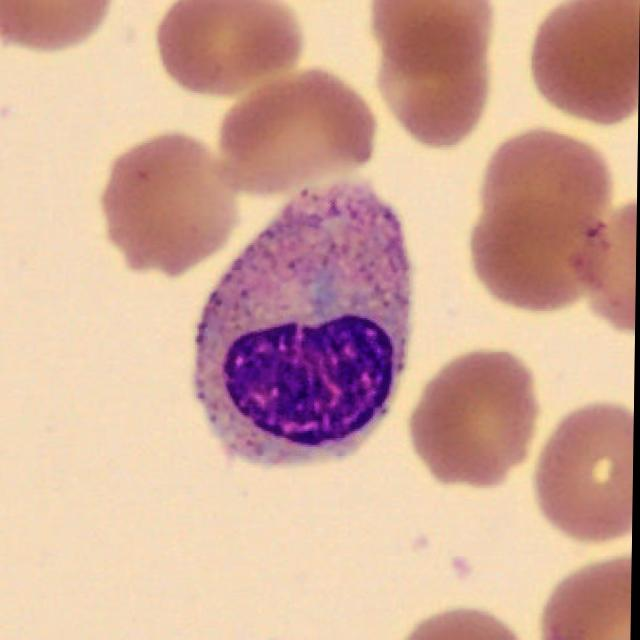Metamielocito: (194, 181, 413, 468)
